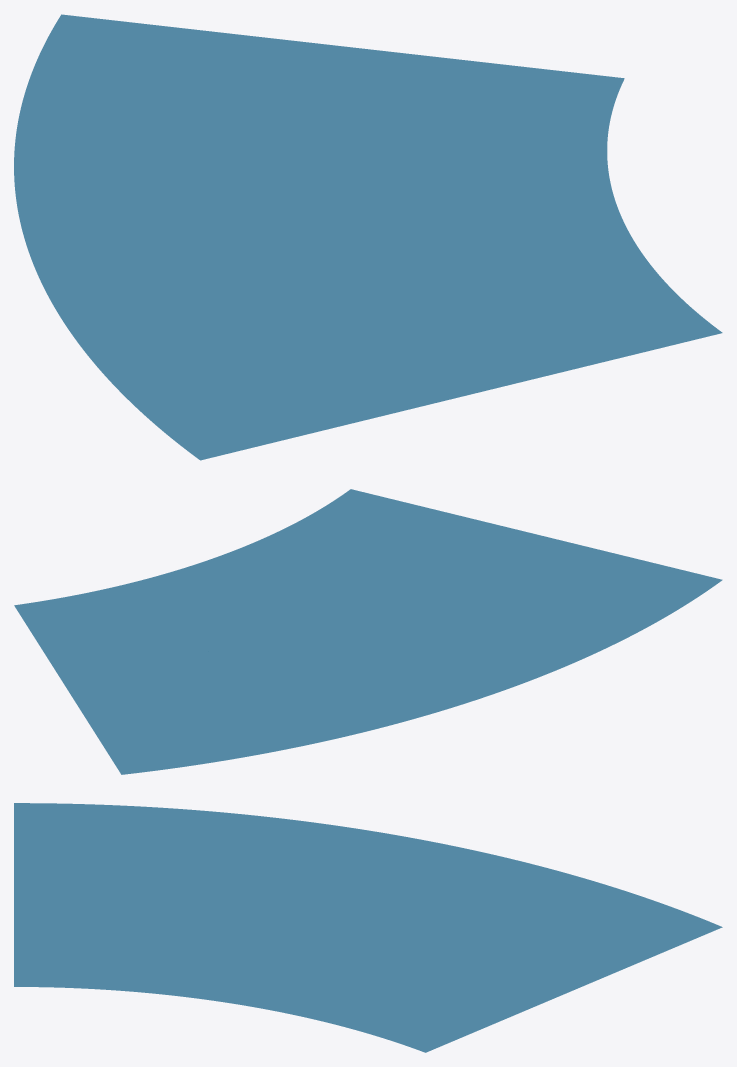
Rendered from SM_Ocean_06.fbx.
3 views of the same model, one above another, from view 1: azimuth 30°, elevation 25°; view 2: azimuth 150°, elevation 25°; view 3: azimuth 270°, elevation 25° (orthographic). The views are drawn at different scales.
Parts seen in each view (by area): view 1: SM_Ocean_06; view 2: SM_Ocean_06; view 3: SM_Ocean_06.
Boxes of the visible parts, x1,y1,x2,y2 form: SM_Ocean_06: (14,14,722,460); SM_Ocean_06: (14,489,722,774); SM_Ocean_06: (14,803,722,1052).
Size of the model in its own units: 130686 by 0 by 156767.
